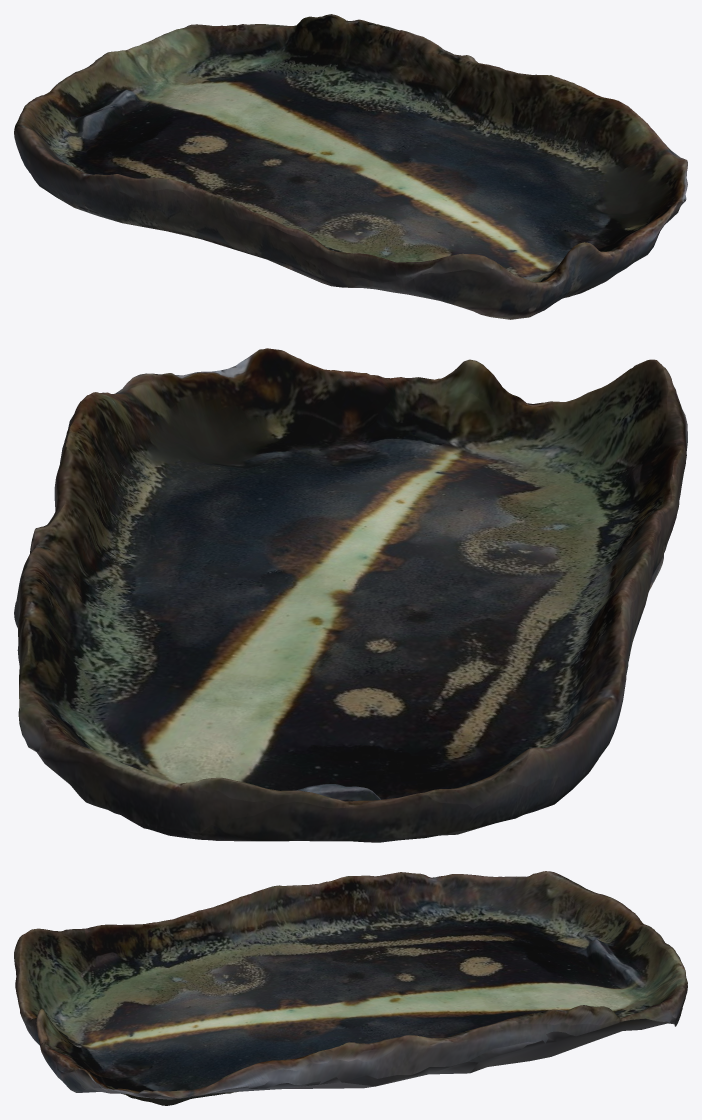
3 views of the same model, one above another, from view 1: azimuth 30°, elevation 25°; view 2: azimuth 150°, elevation 25°; view 3: azimuth 270°, elevation 25° (orthographic). The views are drawn at different scales.
Bounding box in the file's own units: 0.4708 × 0.0877 × 0.5939.
1 material, 1 textured.
